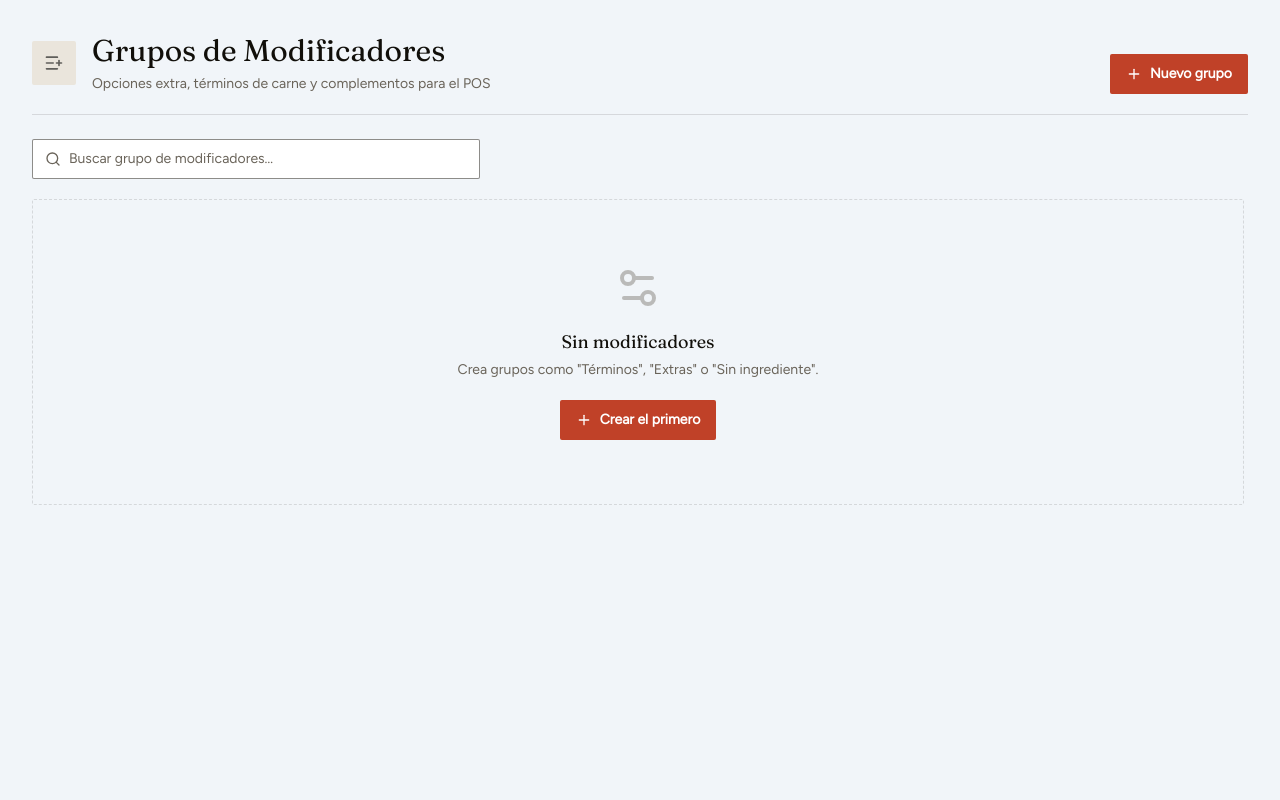
ModificadoresScreen · opción que sustituye › «En lugar de» guarda a quién sustituye y no pide cantidad
The width and height of the screenshot is (1280, 800).
Later steps or results of the test are not shown.
Click the button "Nuevo grupo".
click(1179, 74)  # box [1110,54,1248,94]
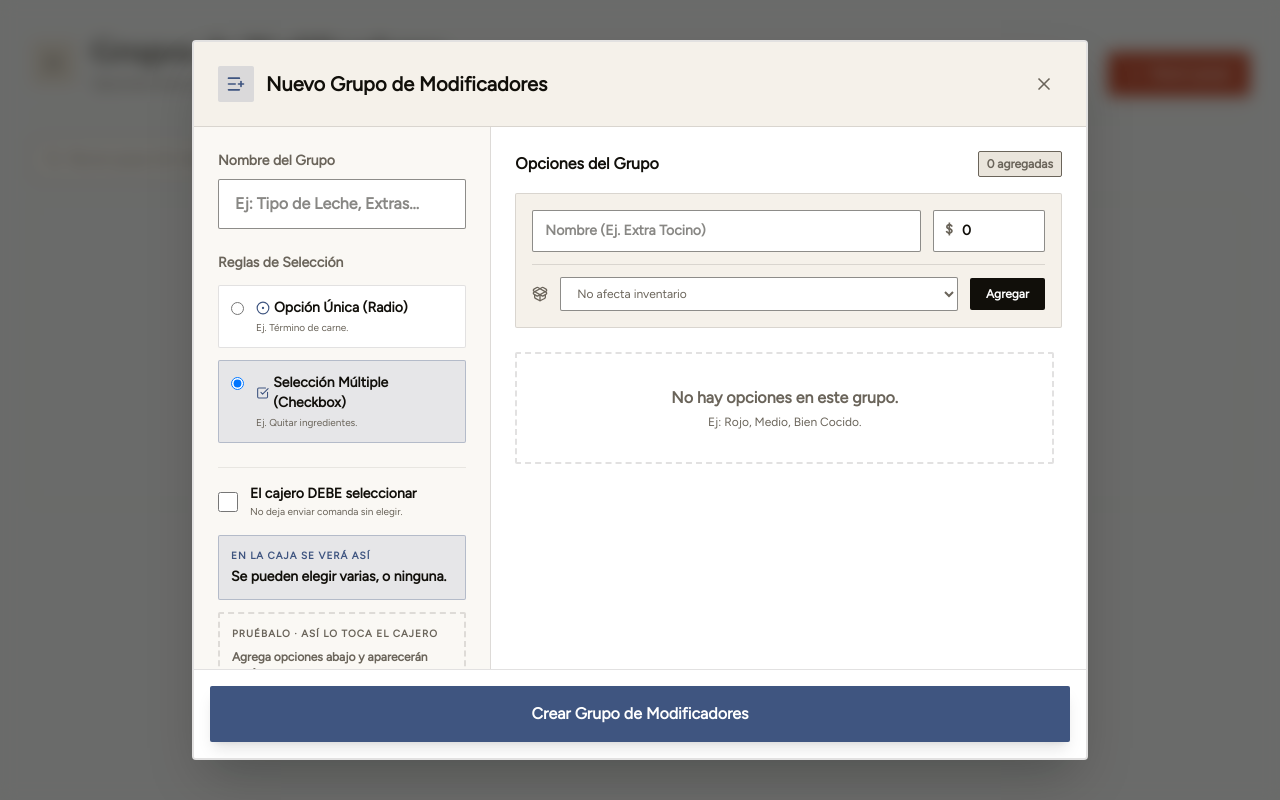
Type "Tipo de leche" into the field with placeholder "Ej: Tipo de Leche, Extras...".
click(342, 204); type("Tipo de leche")  # box [218,179,466,229]
Type "Deslactosada" into the field with placeholder "Nombre (Ej. Extra Tocino)".
click(727, 231); type("Deslactosada")  # box [532,210,921,252]
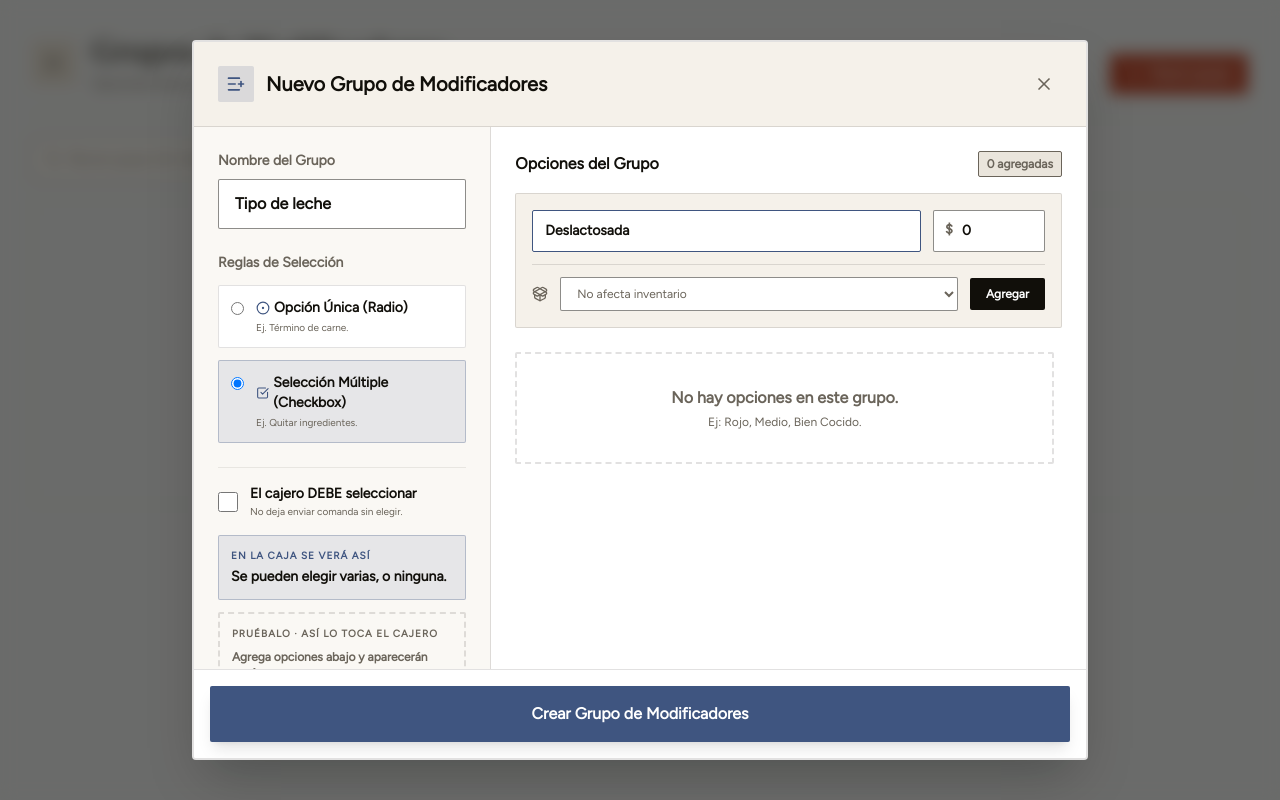
Replace the text in the number field with placeholder "Costo" with "6" at [989, 231], box [933,210,1045,252]
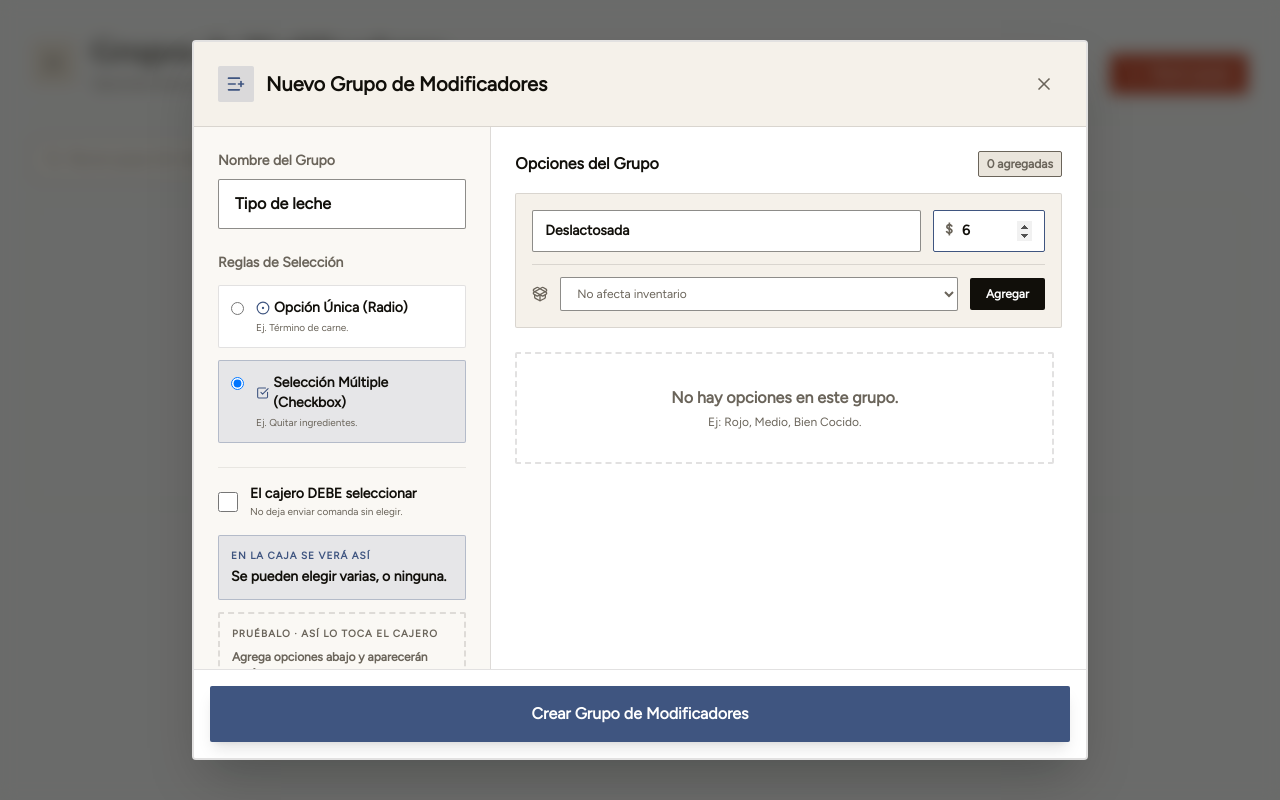
Select "Descontar: Leche Deslactosada" in the dropdown showing "No afecta inventario" at [759, 294], box [560,277,958,311]
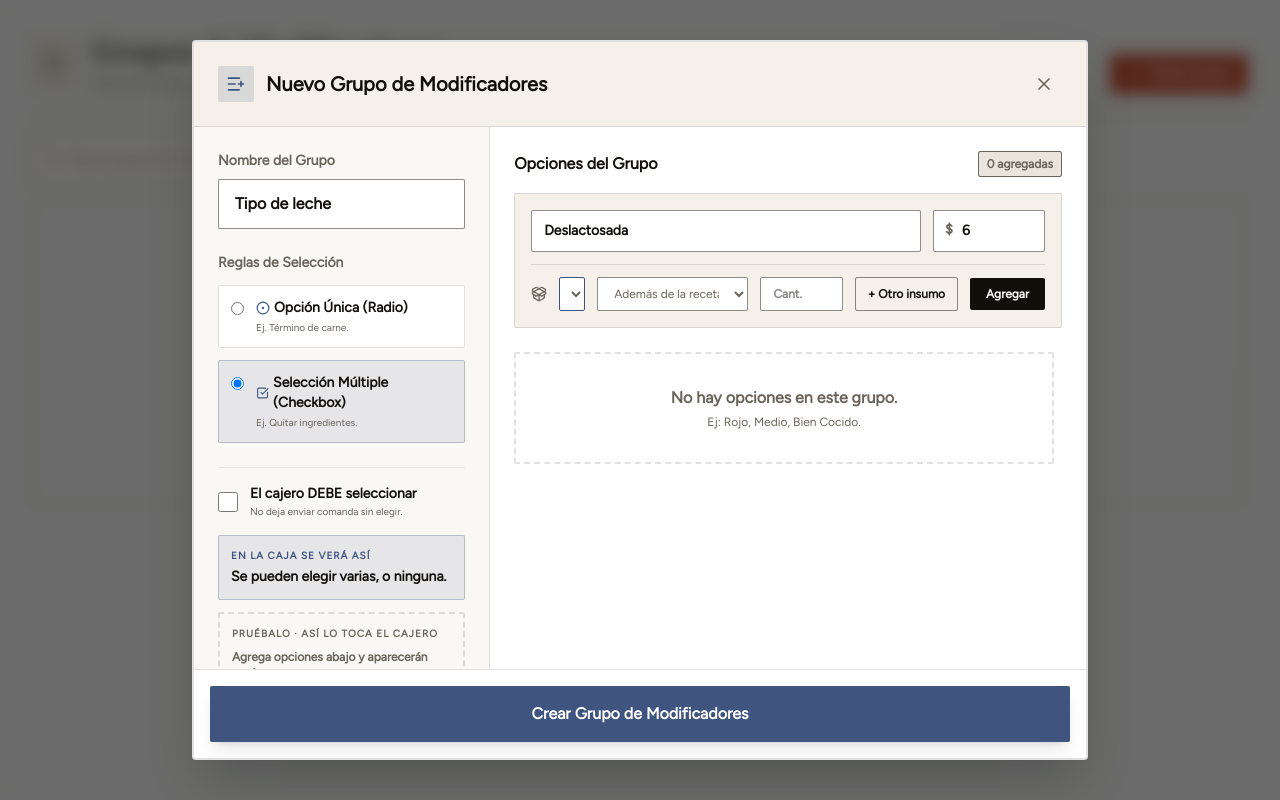
Select "En lugar de: Leche Entera" in the dropdown named "Cómo afecta la receta" at [673, 294], box [597,277,748,311]
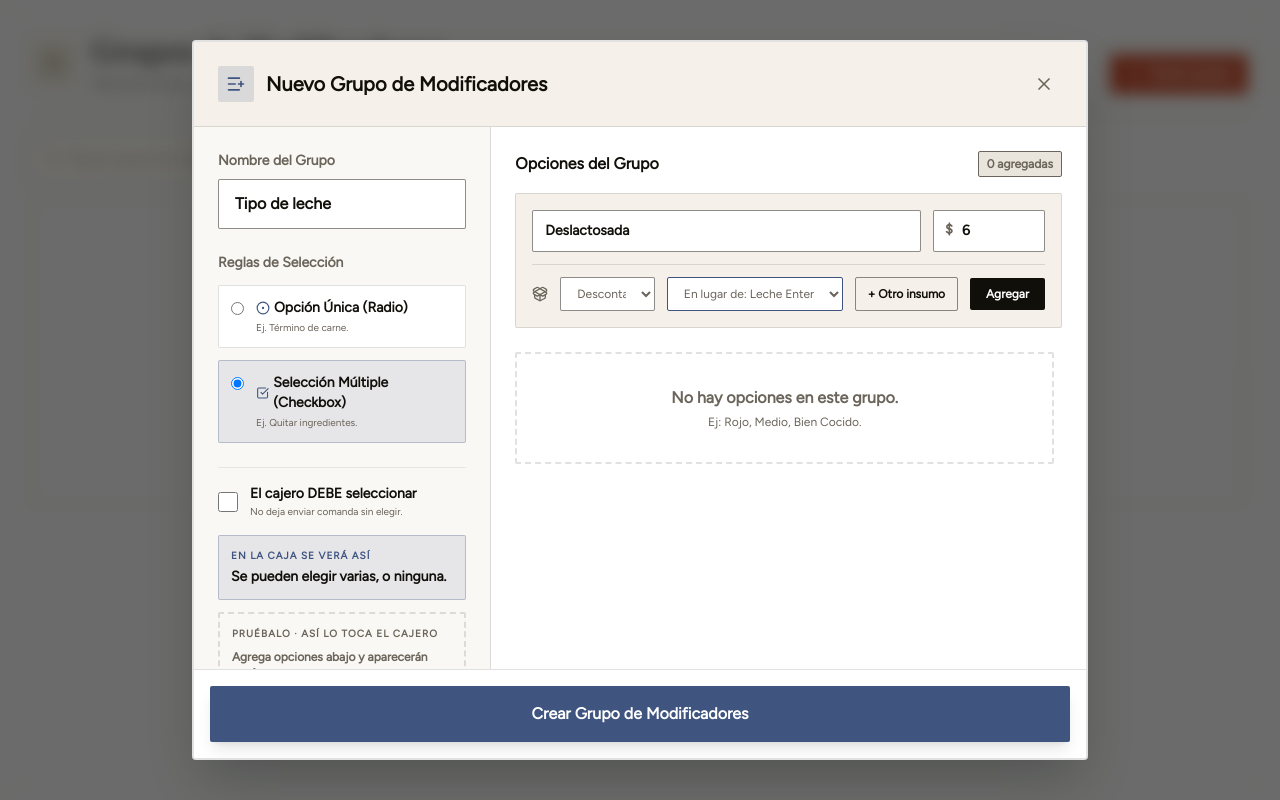
Check: the number field with placeholder "Cant." is gone
Click the button "Agregar".
click(1008, 294)  # box [970,278,1045,310]
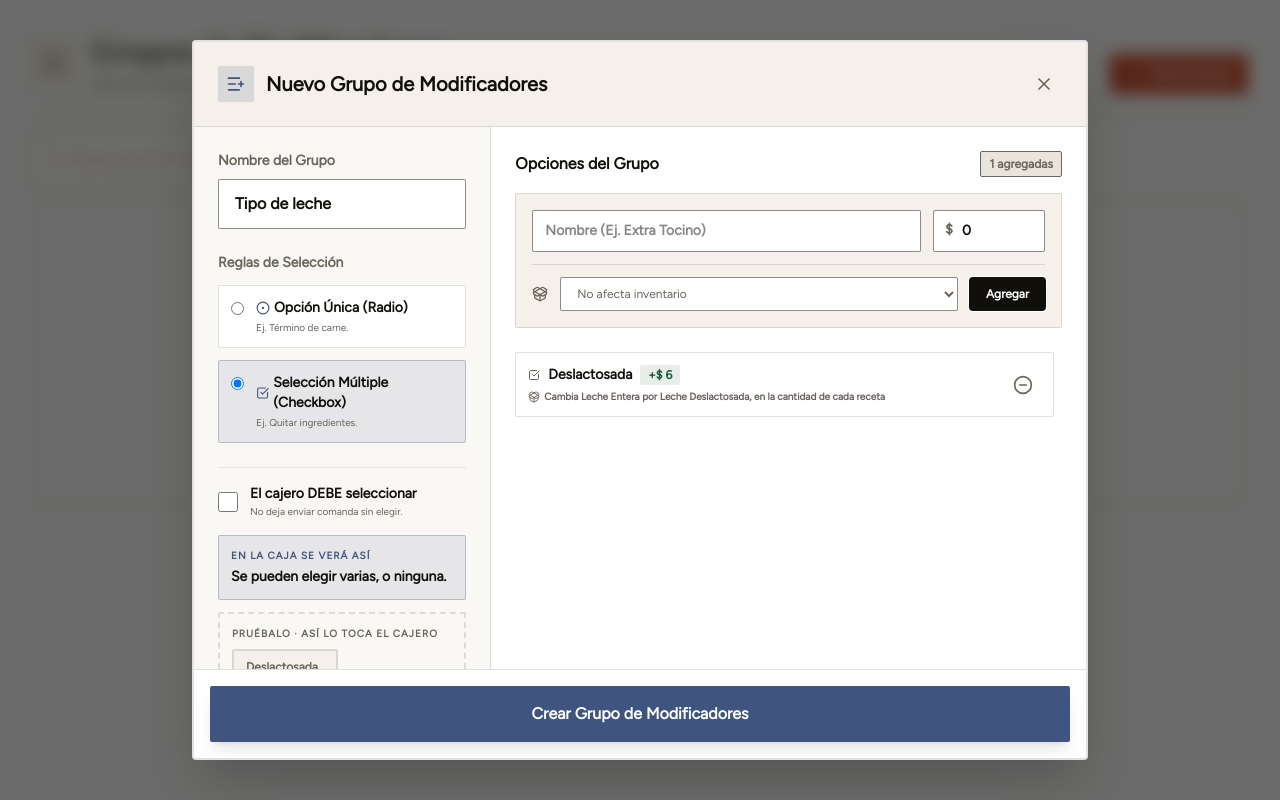
Check: the text "Cambia Leche Entera por Leche Deslactosada" is shown, box [544,390,885,403]
